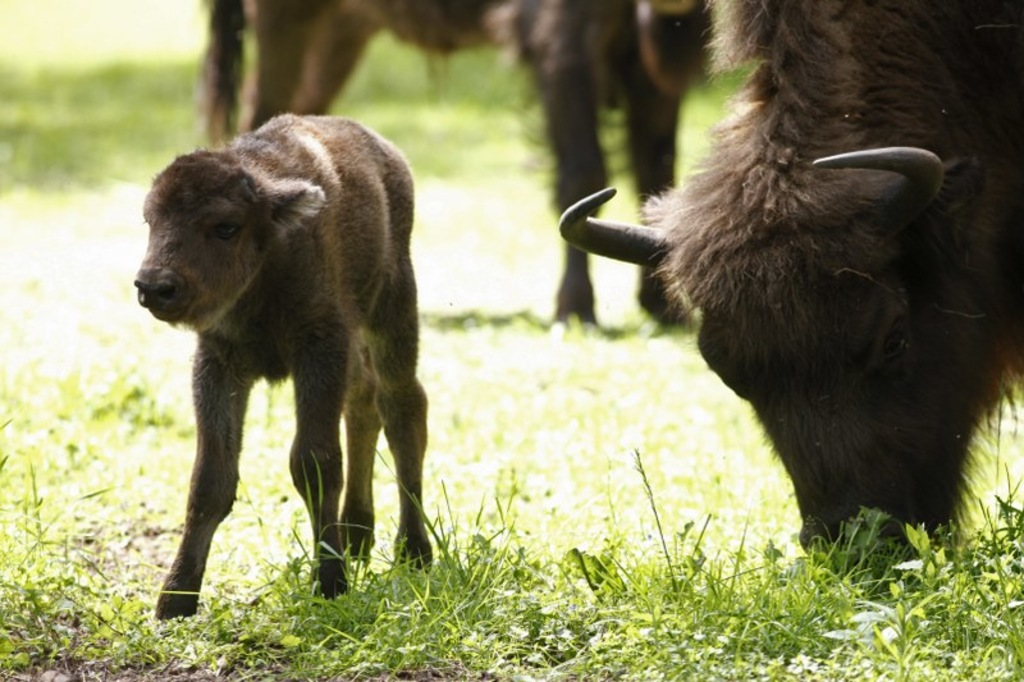zubr: (547, 1, 1016, 607), (85, 116, 520, 614)
